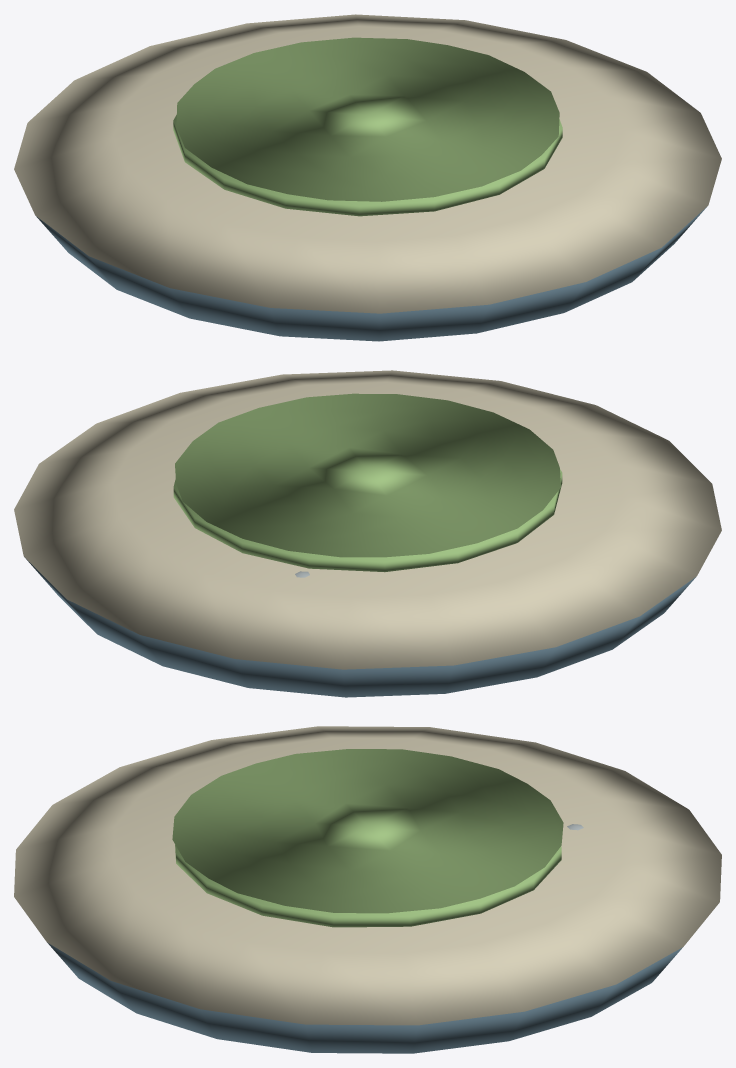
File: terrain_island_10.glb
3 views of the same model, one above another, from view 1: azimuth 30°, elevation 25°; view 2: azimuth 150°, elevation 25°; view 3: azimuth 270°, elevation 25° (orthographic).
Parts seen in each view (by area): view 1: island_sand, island_grass_dome, island_base, island_grass_base; view 2: island_sand, island_grass_dome, island_base, island_grass_base; view 3: island_sand, island_grass_dome, island_base, island_grass_base.
Boxes of the visible parts, left/top/right/bottom form: island_sand: left=14, top=14, right=721, bottom=313; island_grass_dome: left=176, top=37, right=559, bottom=201; island_base: left=36, top=207, right=706, bottom=341; island_grass_base: left=173, top=115, right=562, bottom=216; island_sand: left=14, top=370, right=721, bottom=669; island_grass_dome: left=175, top=393, right=560, bottom=557; island_base: left=24, top=557, right=695, bottom=697; island_grass_base: left=173, top=469, right=562, bottom=572; island_sand: left=14, top=726, right=721, bottom=1025; island_grass_dome: left=172, top=749, right=563, bottom=913; island_base: left=47, top=942, right=682, bottom=1053; island_grass_base: left=175, top=844, right=561, bottom=927.
Bounding box in the file's own units: 89.12 × 12.8 × 89.12.
